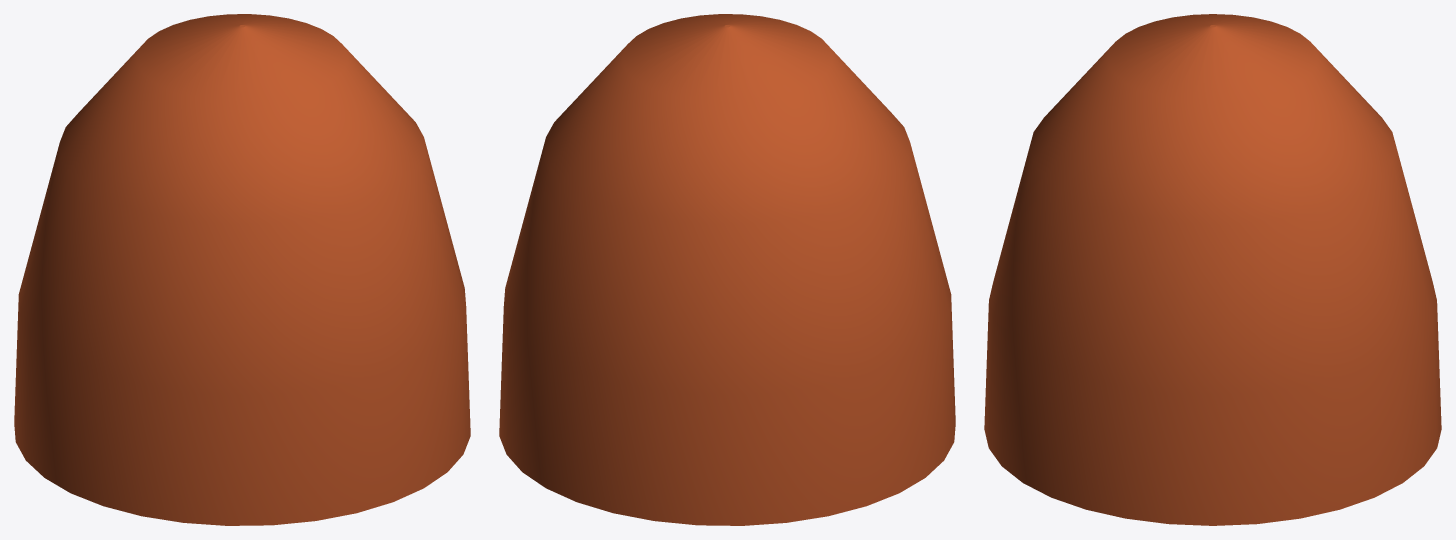
Rendered from projectile-smg.glb.
3 views of the same model, side by side, from view 1: azimuth 30°, elevation 25°; view 2: azimuth 150°, elevation 25°; view 3: azimuth 270°, elevation 25° (orthographic).
Visible parts, largest first — view 1: projectile-smg; view 2: projectile-smg; view 3: projectile-smg.
Boxes of the visible parts, box(x1,y1,x2,y2) form: projectile-smg: box(14, 14, 470, 525); projectile-smg: box(499, 14, 955, 525); projectile-smg: box(984, 14, 1441, 525).
Bounding box in the file's own units: 0.1547 × 0.1505 × 0.1547.
Materials: 1 (1 with a texture image).
